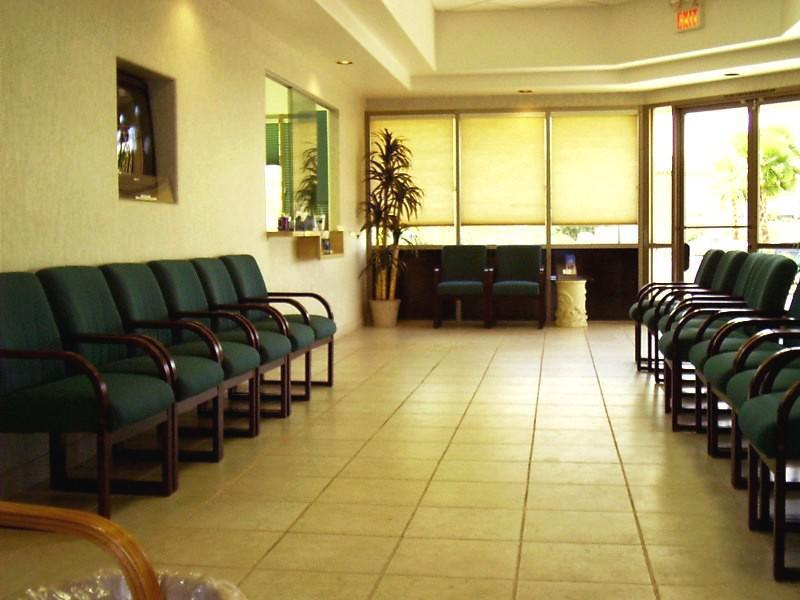Matera: (364, 128, 409, 328)
Puerta: (683, 106, 798, 251)
Ventana: (372, 115, 635, 244)
